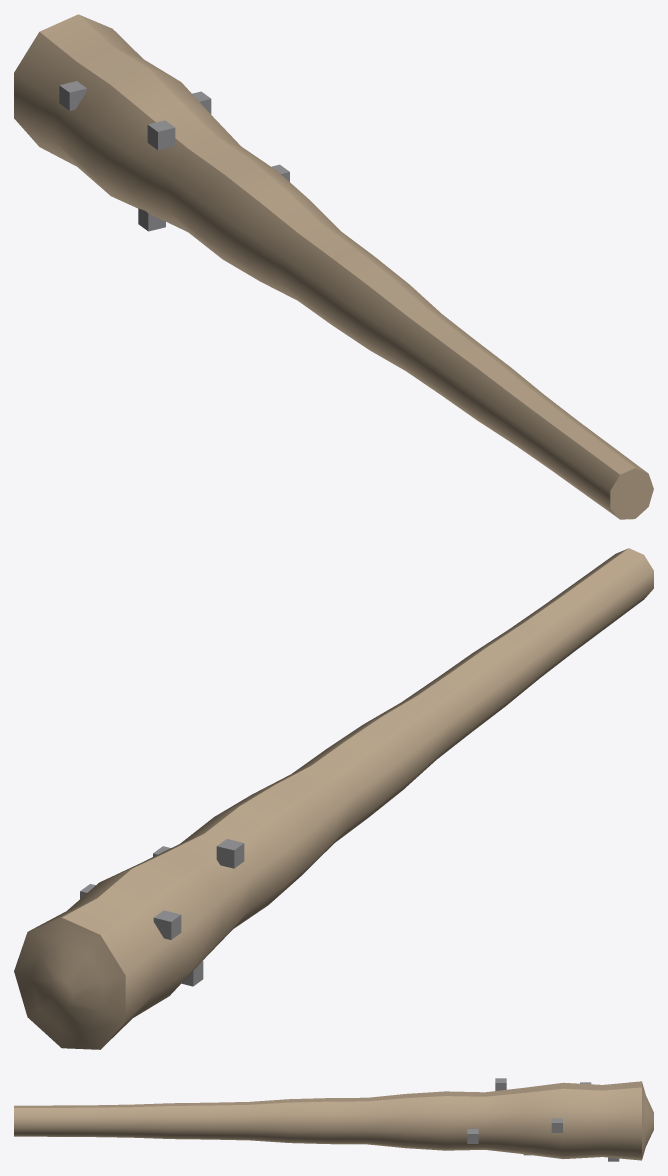
Rendered from cudgel.glb.
The picture shows the model from 3 angles, top to bottom: view 1: azimuth 30°, elevation 25°; view 2: azimuth 150°, elevation 25°; view 3: azimuth 270°, elevation 25°; orthographic projection. The views are drawn at different scales.
Visible parts, largest first — view 1: cudgel; view 2: cudgel; view 3: cudgel.
Part boxes in pixels (x1=…): cudgel: x1=14, y1=14, x2=653, y2=519; cudgel: x1=14, y1=548, x2=653, y2=1049; cudgel: x1=14, y1=1078, x2=653, y2=1161.
Bounding box in the file's own units: 0.0955 × 0.1021 × 0.795.
